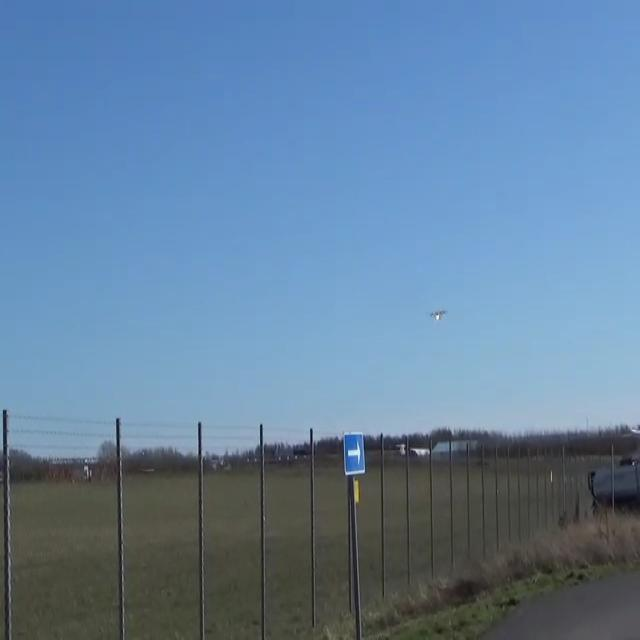AirPlane: (419, 300, 455, 329)
